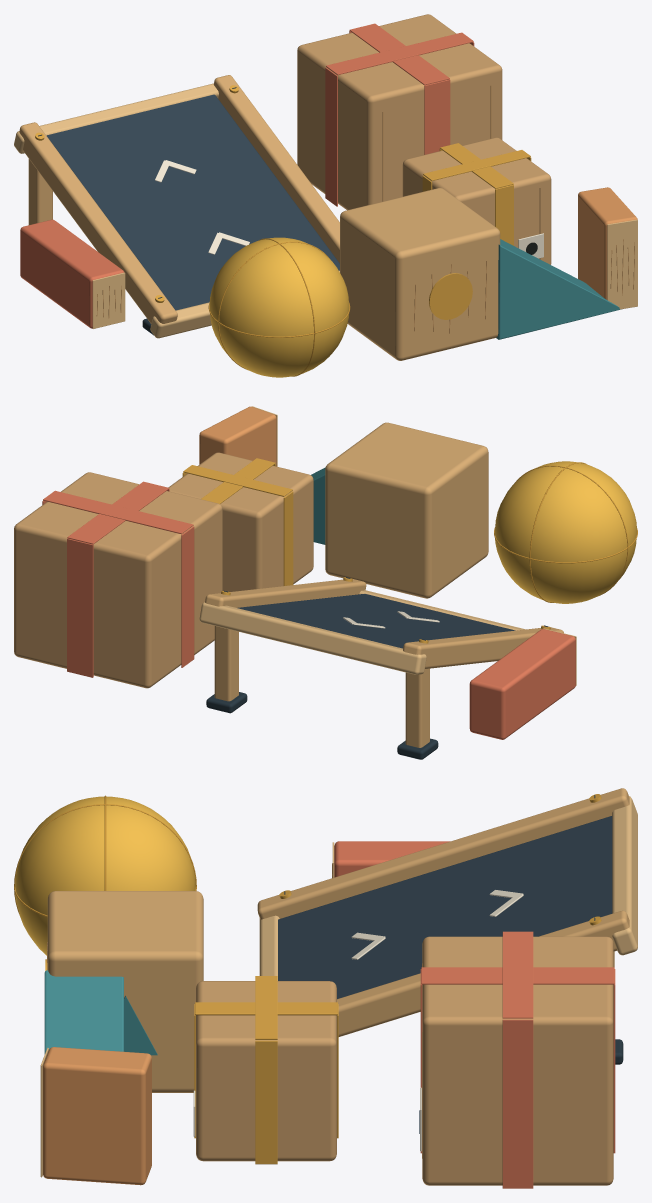
The model's file is play-props.glb.
The picture shows the model from 3 angles, top to bottom: view 1: azimuth 30°, elevation 25°; view 2: azimuth 150°, elevation 25°; view 3: azimuth 270°, elevation 25°; orthographic projection. The views are drawn at different scales.
Visible parts, largest first — view 1: Ramp_Driving_Surface, Parcel_Carton (×2), Cube_Wood, Ball_Yellow_Surface, Wedge_Teal_Body, Ramp_Wood_Rail_Left, Block_Painted_Body, Ramp_Wood_Rail_Right, Block_Painted_Body_1, Parcel_Tape_Top_Cross (×2), Parcel_Tape_Top_Length (×2), Block_Wood_End_1 (+8 smaller); view 2: Parcel_Carton (×2), Cube_Wood, Ball_Yellow_Surface, Block_Painted_Body, Ramp_Driving_Surface, Ramp_End_Bar_-0185, Parcel_Tape_Front_Back_-0095, Block_Painted_Body_1, Ramp_Wood_Rail_Left, Parcel_Tape_Top_Cross (×2), Parcel_Tape_Top_Length (×2), Ramp_Wood_Rail_Right (+8 smaller); view 3: Parcel_Carton (×2), Ramp_Driving_Surface, Cube_Wood, Ball_Yellow_Surface, Block_Painted_Body_1, Ramp_Wood_Rail_Left, Wedge_Teal_Body, Parcel_Tape_Sides_01, Parcel_Tape_Top_Length (×2), Ramp_Wood_Rail_Right, Parcel_Tape_Top_Cross (×2), Ramp_End_Bar_-0185 (+4 smaller).
Part boxes in pixels (box(x1,y1,x2,y2)): Ramp_Driving_Surface: box(47, 94, 339, 310); Parcel_Carton (×2): box(297, 14, 551, 264); Cube_Wood: box(340, 188, 500, 360); Ball_Yellow_Surface: box(209, 237, 349, 377); Wedge_Teal_Body: box(496, 239, 622, 339); Ramp_Wood_Rail_Left: box(19, 122, 177, 323); Block_Painted_Body: box(20, 219, 124, 328); Ramp_Wood_Rail_Right: box(213, 75, 339, 262); Block_Painted_Body_1: box(578, 187, 637, 299); Parcel_Tape_Top_Cross (×2): box(326, 32, 530, 180); Parcel_Tape_Top_Length (×2): box(349, 23, 513, 188); Block_Wood_End_1: box(607, 219, 637, 309); Parcel_Carton (×2): box(14, 452, 313, 688); Cube_Wood: box(325, 422, 488, 598); Ball_Yellow_Surface: box(494, 461, 636, 603); Block_Painted_Body: box(469, 629, 575, 739); Ramp_Driving_Surface: box(237, 594, 515, 648); Ramp_End_Bar_-0185: box(199, 602, 426, 674); Parcel_Tape_Front_Back_-0095: box(67, 538, 93, 677); Block_Painted_Body_1: box(199, 406, 276, 466); Ramp_Wood_Rail_Left: box(403, 627, 563, 668); Parcel_Tape_Top_Cross (×2): box(43, 465, 292, 534); Parcel_Tape_Top_Length (×2): box(67, 458, 275, 544); Ramp_Wood_Rail_Right: box(205, 579, 366, 607); Parcel_Carton (×2): box(196, 936, 613, 1185); Ramp_Driving_Surface: box(278, 816, 612, 998); Cube_Wood: box(47, 891, 203, 1092); Ball_Yellow_Surface: box(15, 796, 195, 955); Block_Painted_Body_1: box(43, 1047, 151, 1185); Ramp_Wood_Rail_Left: box(257, 788, 629, 919); Wedge_Teal_Body: box(44, 970, 123, 1053); Parcel_Tape_Sides_01: box(502, 1019, 533, 1188); Parcel_Tape_Top_Length (×2): box(195, 967, 614, 1015); Ramp_Wood_Rail_Right: box(337, 910, 629, 1036); Parcel_Tape_Top_Cross (×2): box(255, 931, 533, 1039); Ramp_End_Bar_-0185: box(612, 796, 637, 955).
Size of the model in its own units: 0.6649 by 0.1885 by 0.6201.
